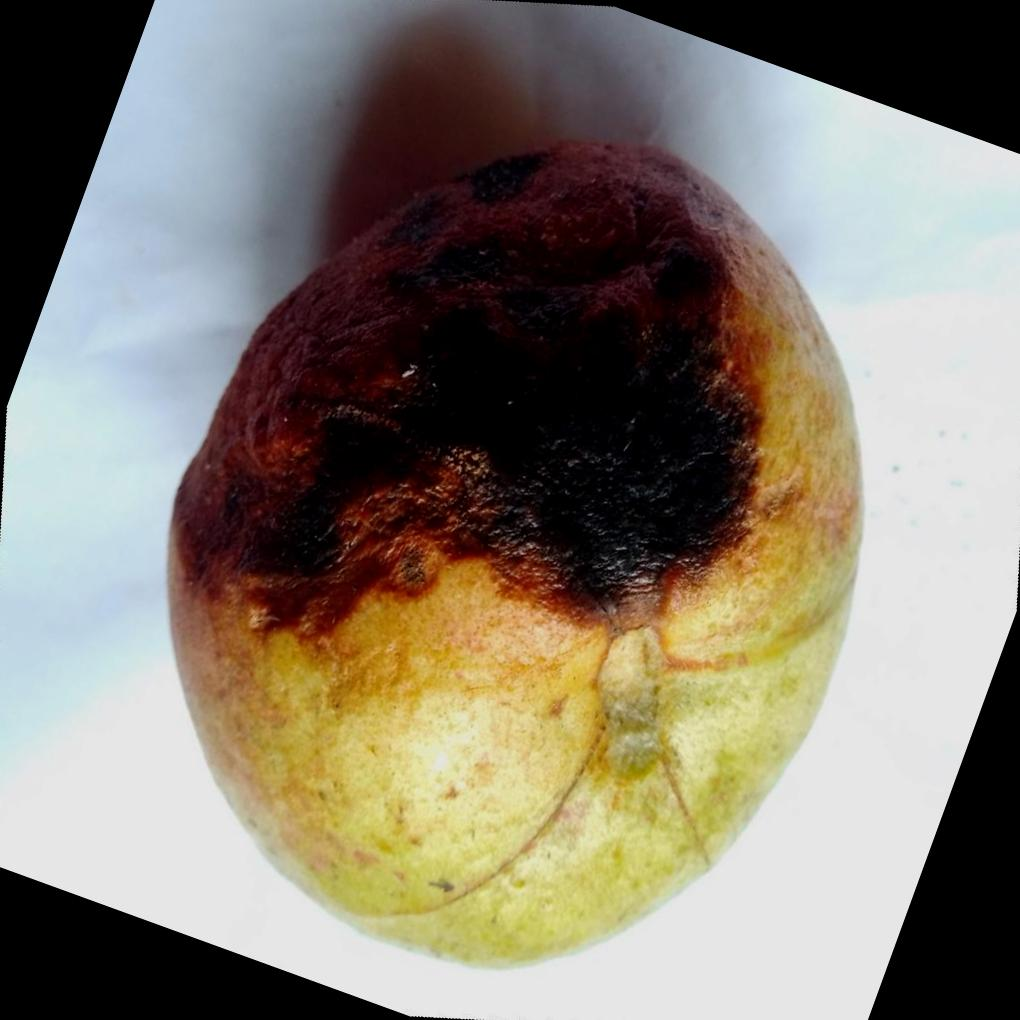FreshOrange: (164, 132, 865, 969)
